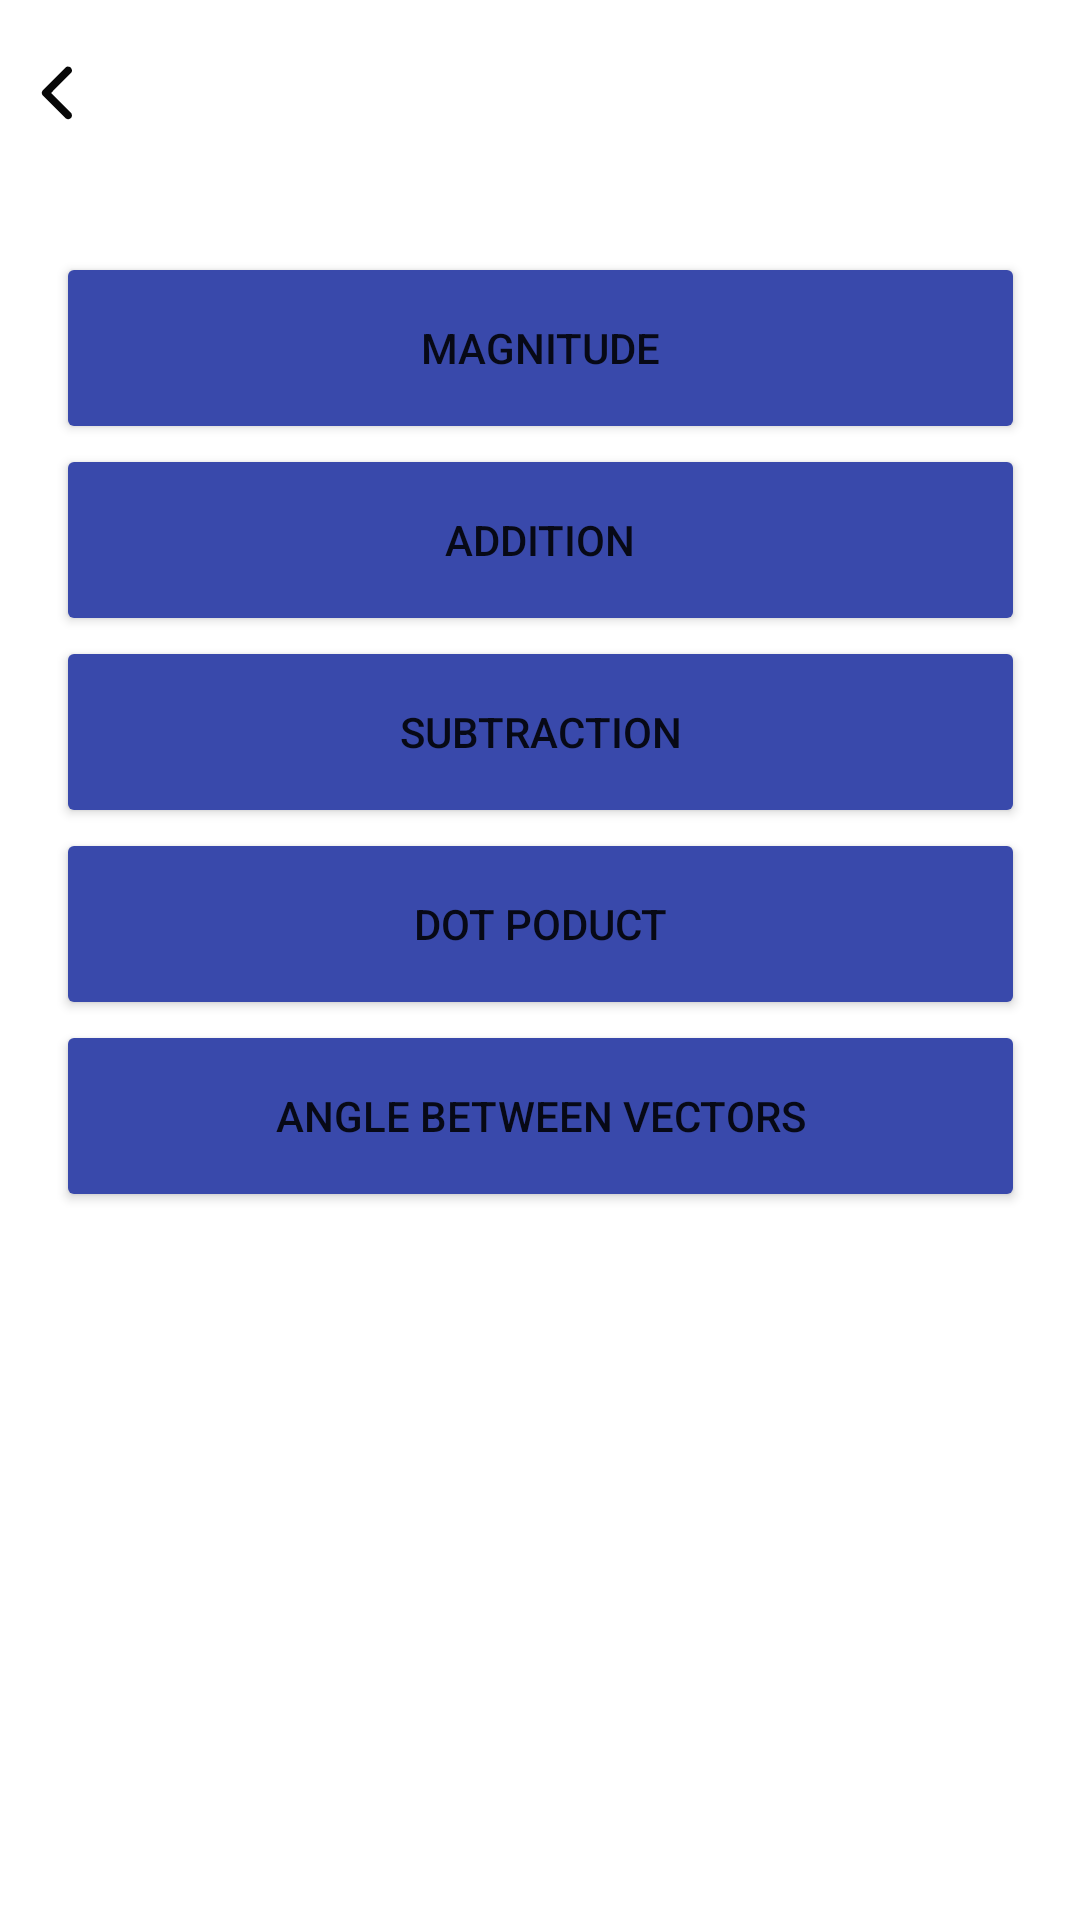

Icons on this 1080*1920 Android screen, each with the point to tap as point (x, y):
back: point (56, 93)
